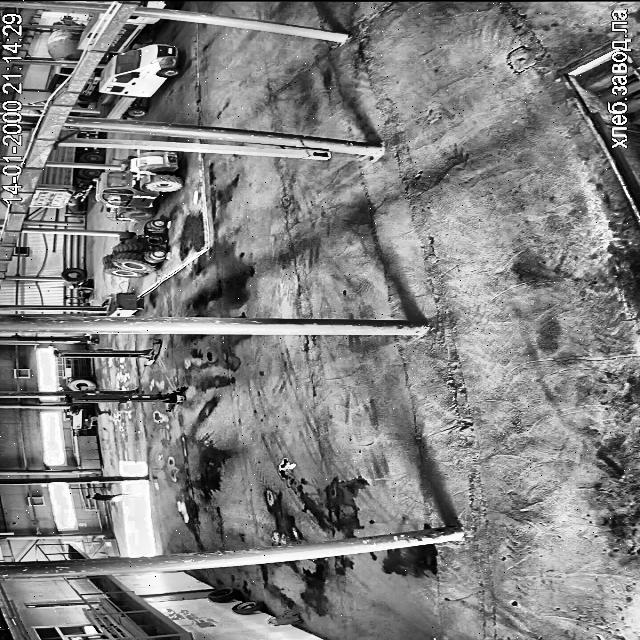class4: (85, 492, 128, 501)
class6: (96, 151, 181, 220), (102, 220, 166, 277)
class7: (100, 44, 180, 118), (28, 167, 100, 208), (108, 16, 157, 52), (46, 17, 82, 60), (49, 147, 101, 163), (77, 68, 100, 104), (45, 66, 73, 92), (80, 13, 100, 48), (140, 0, 177, 8), (76, 132, 97, 140), (60, 130, 69, 135)
tractor: (268, 615, 300, 624)
truck: (66, 387, 186, 410), (53, 340, 161, 365)
